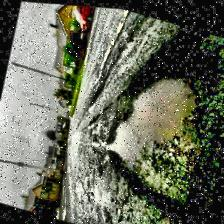pothole: (95, 7, 224, 217)
